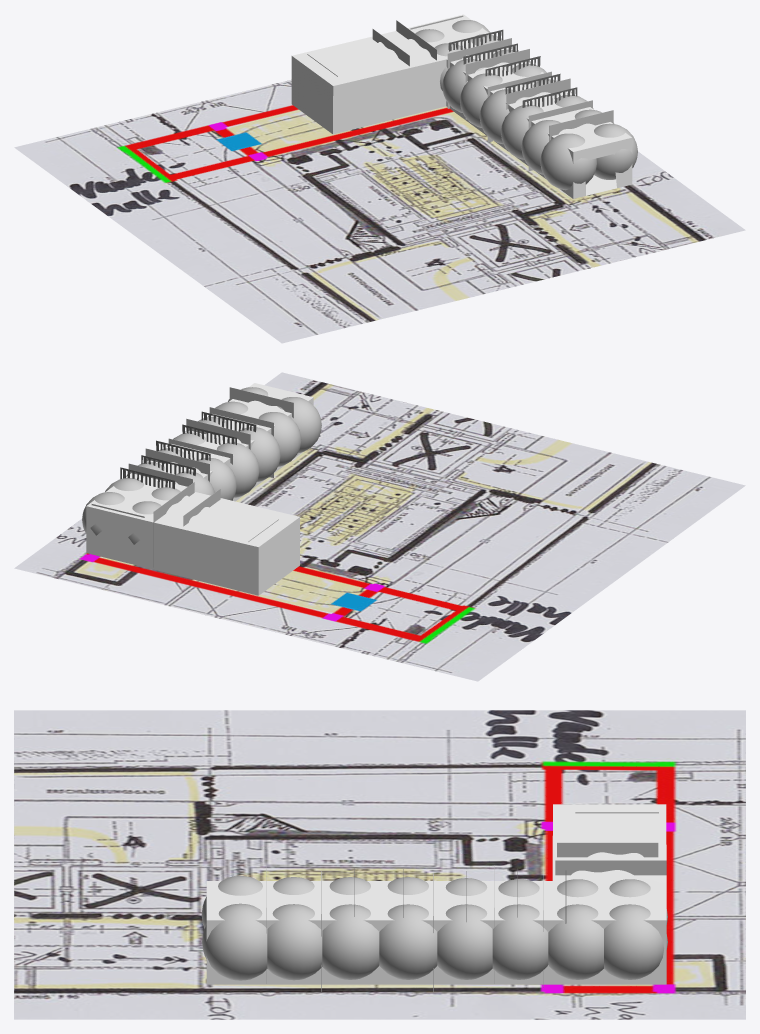
Rendered from Reizdarm Model 4.fbx.
3 renders of one model, top to bottom at view 1: azimuth 30°, elevation 25°; view 2: azimuth 150°, elevation 25°; view 3: azimuth 270°, elevation 25°, orthographic. The views are drawn at different scales.
Parts seen in each view (by area): view 1: Plan, Wände, Decke, Schotten, Licht00, Lotten, Licht01, Licht08, Licht04, Licht06, Licht02, Licht10; view 2: Plan, Wände, Decke, Schotten, Lotten, Licht06, Licht02, Licht04, Licht00, Licht08, Licht15; view 3: Plan, Decke, Wände, Licht01, Licht15, Licht07, Licht05, Licht03, Licht11, Licht13, Licht09, Schotten (+8 smaller).
Part boxes in pixels (x1,y1,x2,y2): Plan: (14,79,745,343); Wände: (291,56,632,198); Decke: (292,14,631,151); Schotten: (372,20,613,170); Licht00: (540,133,596,190); Lotten: (448,29,577,107); Licht01: (594,123,637,179); Licht08: (460,73,502,127); Licht04: (501,105,543,159); Licht06: (479,89,521,144); Licht02: (521,120,560,174); Licht10: (442,59,483,112); Plan: (14,372,745,681); Wände: (86,397,313,595); Decke: (86,383,312,546); Schotten: (128,387,293,567); Lotten: (120,411,256,489); Licht06: (216,442,259,497); Licht02: (258,412,301,466); Licht04: (239,427,280,481); Licht00: (278,397,321,453); Licht08: (197,458,236,500); Licht15: (82,492,124,535); Plan: (14,710,745,1019); Decke: (206,804,666,920); Wände: (206,920,666,984); Licht01: (202,903,267,980); Licht15: (604,904,667,979); Licht07: (379,904,437,979); Licht05: (322,904,379,979); Licht03: (267,904,322,980); Licht11: (492,904,548,979); Licht13: (548,904,603,979); Licht09: (437,904,492,979); Schotten: (266,842,666,992).
Bounding box in the file's own units: 3000 × 396 × 3000.
Materials: 7 (1 with a texture image).
